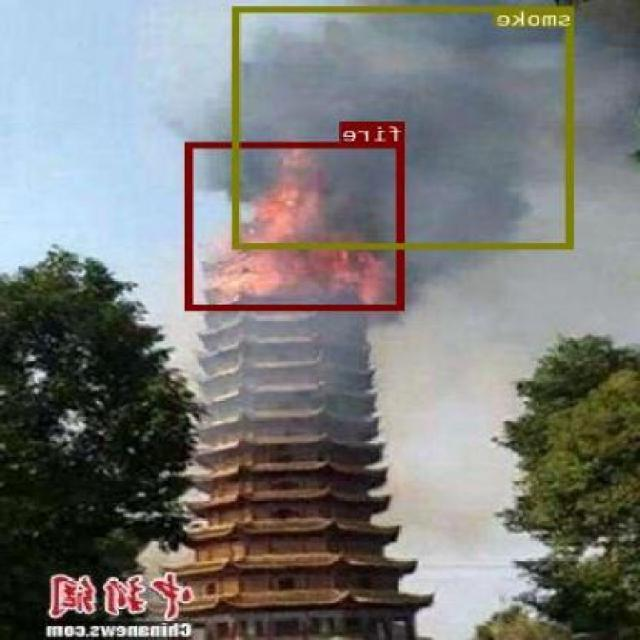Fire: (188, 142, 404, 310)
Smoke: (234, 5, 576, 248)
